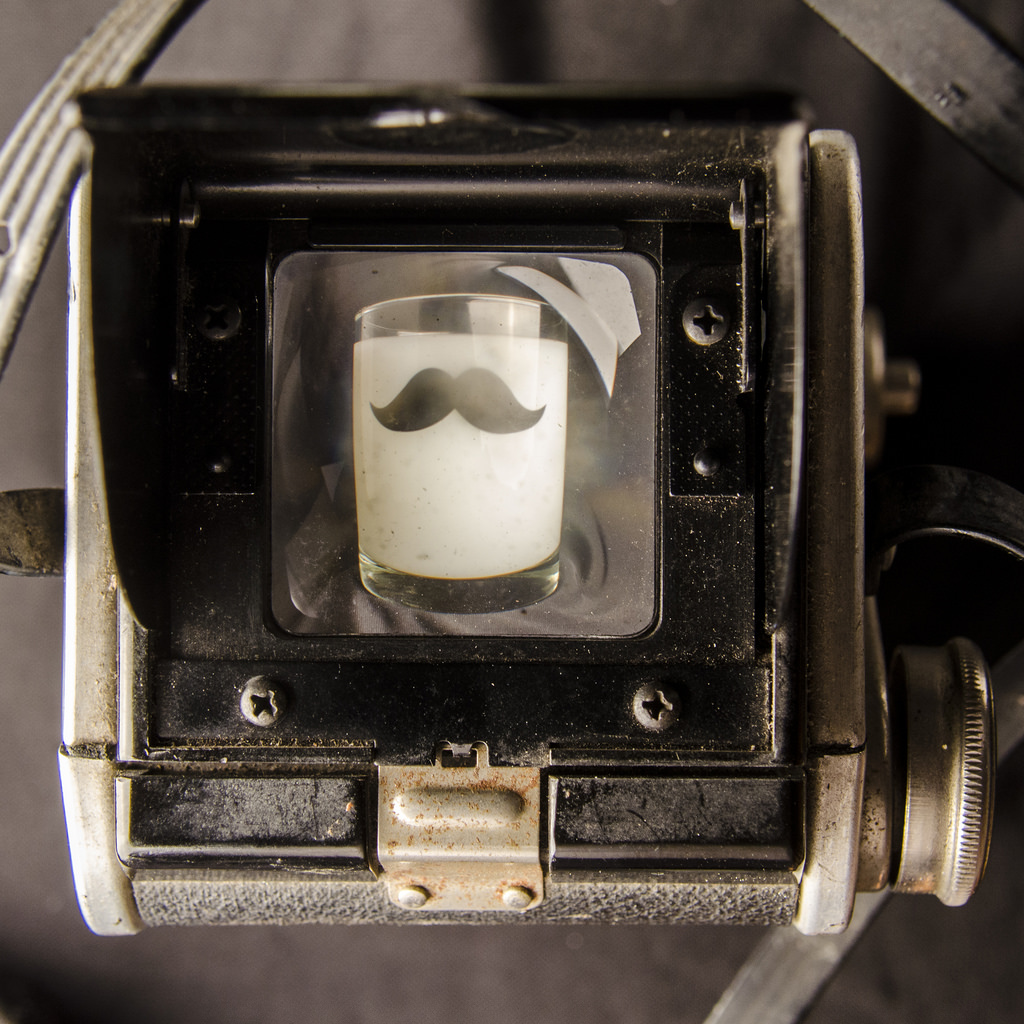glass of milk: (342, 275, 577, 619)
